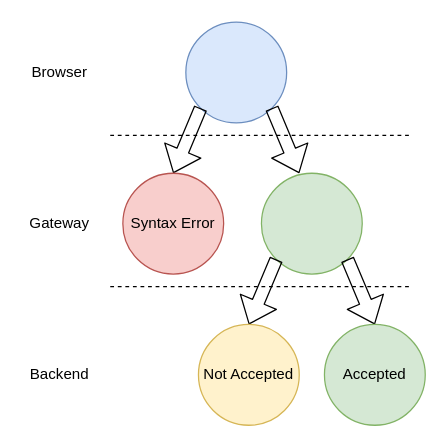
This 447x447 diagram has some shape labels left out. Here are the shapes that lost their labels. From the top down, the centre of each, then its label:
the point at 236,72: Command
the point at 311,223: Sent
